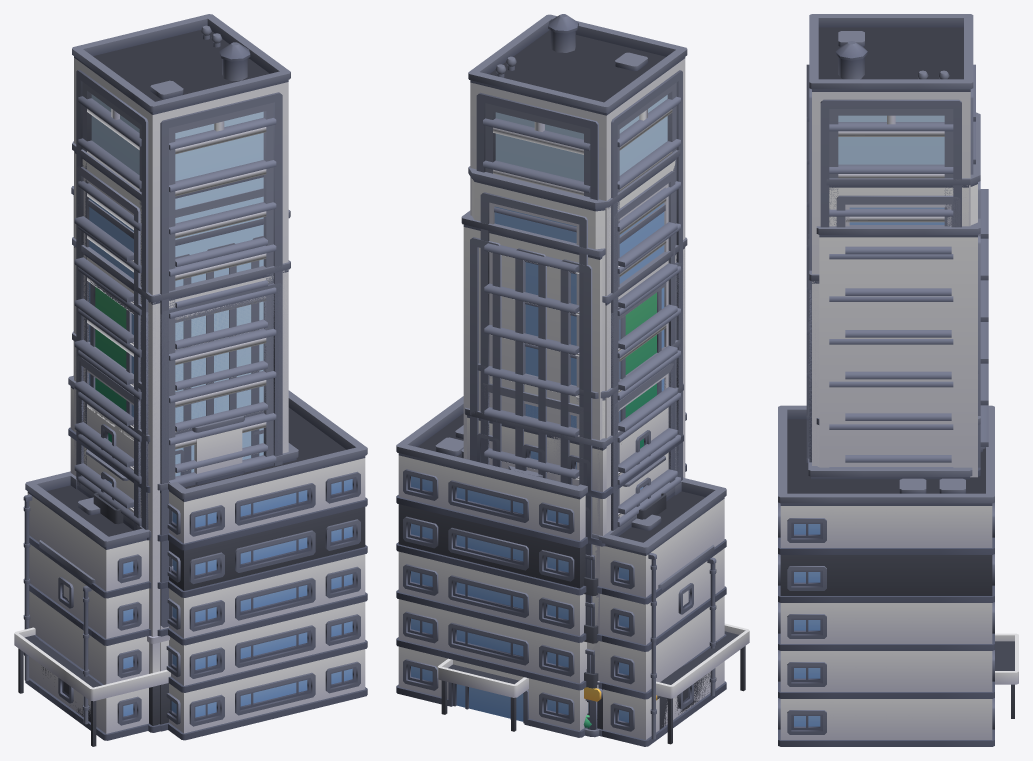
File: kit-commercial.glb
3 views of the same model, side by side, from view 1: azimuth 30°, elevation 25°; view 2: azimuth 150°, elevation 25°; view 3: azimuth 270°, elevation 25° (orthographic).
Parts seen in each view (by area): view 1: building-n, building-skyscraper-d, building-skyscraper-c, building-j, building-skyscraper-b, building-skyscraper-e, building-skyscraper-a, building-m, building-k, building-l; view 2: building-n, building-skyscraper-d, building-skyscraper-b, building-skyscraper-e, building-j, building-m, building-skyscraper-c, building-skyscraper-a, building-k, building-i; view 3: building-n, building-skyscraper-d, building-skyscraper-e, building-skyscraper-b, building-skyscraper-c, building-skyscraper-a, building-l.
Boxes of the visible parts, left/top/right/bottom form: building-n: left=14, top=390, right=367, bottom=746; building-skyscraper-d: left=72, top=14, right=290, bottom=635; building-skyscraper-c: left=72, top=237, right=290, bottom=732; building-j: left=23, top=471, right=160, bottom=740; building-skyscraper-b: left=72, top=141, right=267, bottom=530; building-skyscraper-e: left=71, top=186, right=290, bottom=480; building-skyscraper-a: left=72, top=331, right=267, bottom=724; building-m: left=68, top=375, right=263, bottom=540; building-k: left=39, top=540, right=95, bottom=728; building-l: left=93, top=443, right=298, bottom=731; building-n: left=396, top=396, right=749, bottom=744; building-skyscraper-d: left=468, top=14, right=687, bottom=529; building-skyscraper-b: left=468, top=150, right=680, bottom=505; building-skyscraper-e: left=461, top=204, right=665, bottom=729; building-j: left=583, top=477, right=726, bottom=746; building-m: left=464, top=383, right=683, bottom=736; building-skyscraper-c: left=525, top=237, right=687, bottom=532; building-skyscraper-a: left=477, top=339, right=680, bottom=730; building-k: left=656, top=545, right=716, bottom=735; building-i: left=584, top=477, right=683, bottom=729; building-n: left=778, top=405, right=1018, bottom=746; building-skyscraper-d: left=806, top=14, right=975, bottom=465; building-skyscraper-e: left=816, top=218, right=980, bottom=477; building-skyscraper-b: left=808, top=112, right=988, bottom=379; building-skyscraper-c: left=806, top=270, right=953, bottom=468; building-skyscraper-a: left=808, top=363, right=988, bottom=462; building-l: left=808, top=447, right=985, bottom=479.
Bounding box in the file's own units: 2.32 × 5.47 × 1.82.
Materials: 1 (1 with a texture image).
